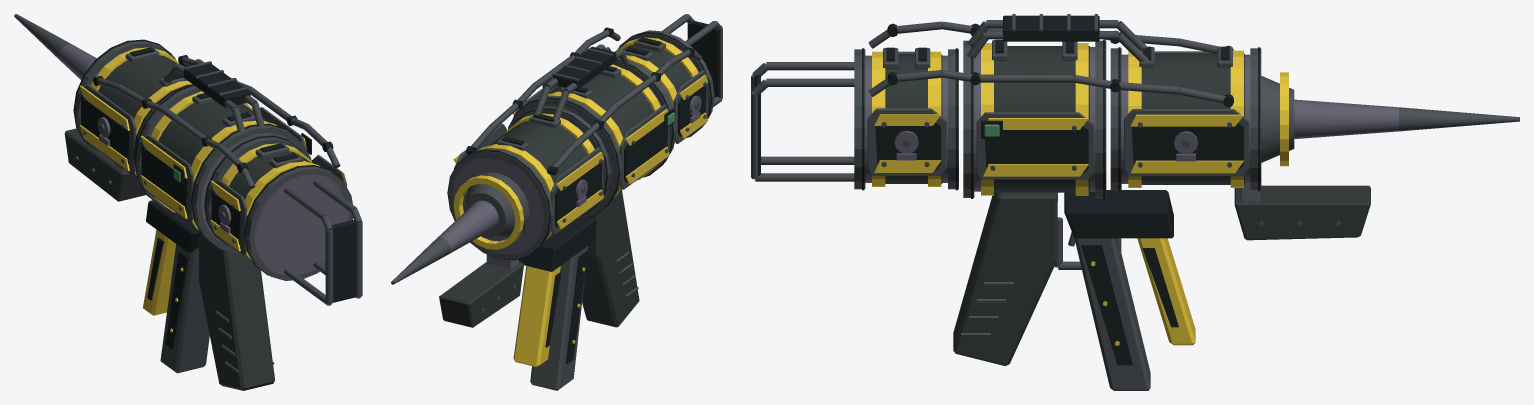
The model's file is smg_1.glb.
3 views of the same model, side by side, from view 1: azimuth 30°, elevation 25°; view 2: azimuth 150°, elevation 25°; view 3: azimuth 270°, elevation 25° (orthographic). The views are drawn at different scales.
Parts seen in each view (by area): view 1: Weapon_smg_v1; view 2: Weapon_smg_v1; view 3: Weapon_smg_v1.
Boxes of the visible parts, bbox=[...] form: Weapon_smg_v1: bbox=[14, 14, 362, 390]; Weapon_smg_v1: bbox=[391, 14, 722, 390]; Weapon_smg_v1: bbox=[751, 14, 1519, 390].
Bounding box in the file's own units: 0.162 × 0.363 × 0.699.
